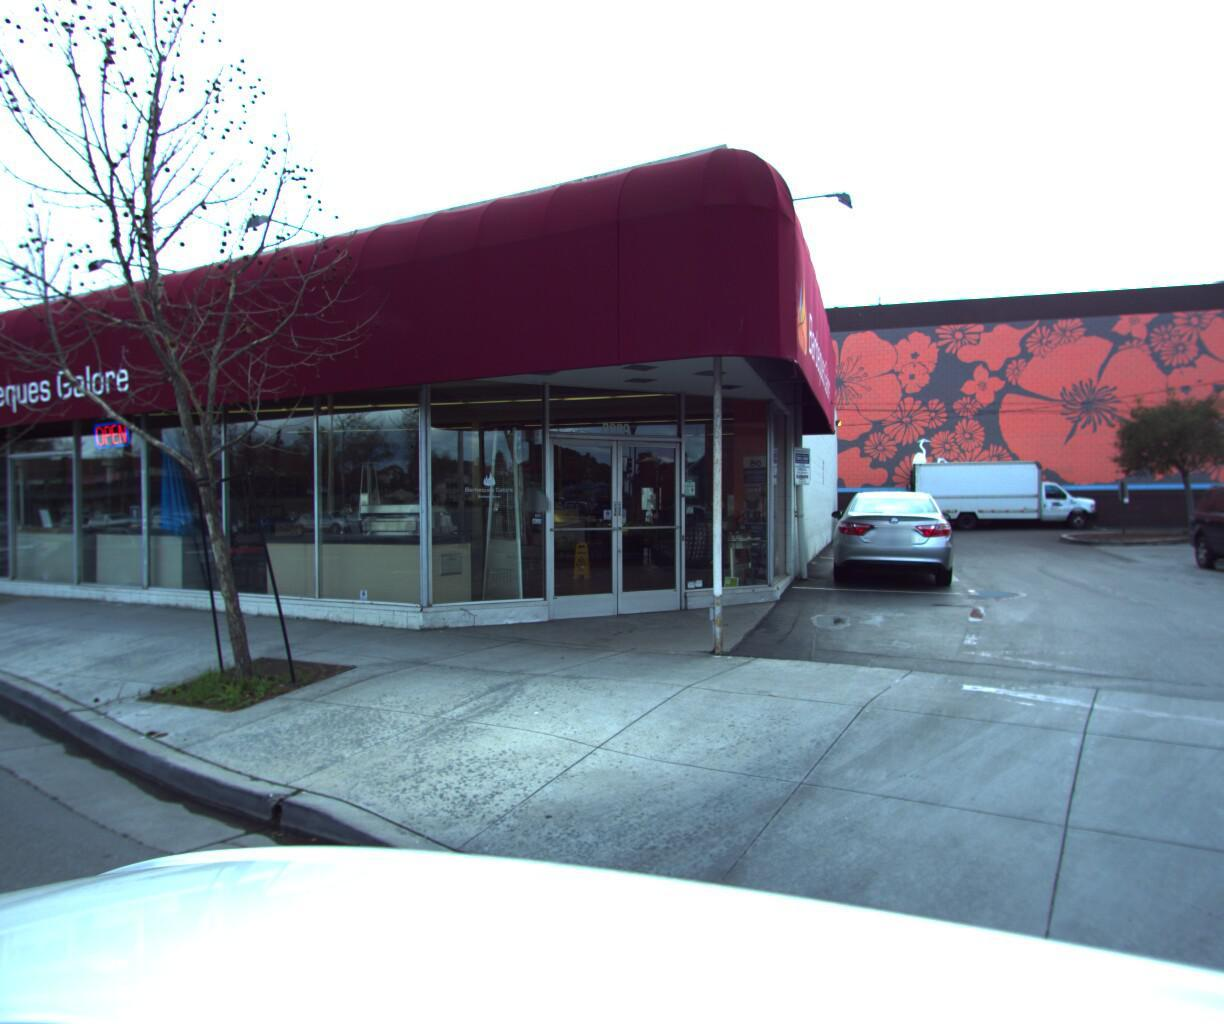car: (832, 481, 967, 588)
